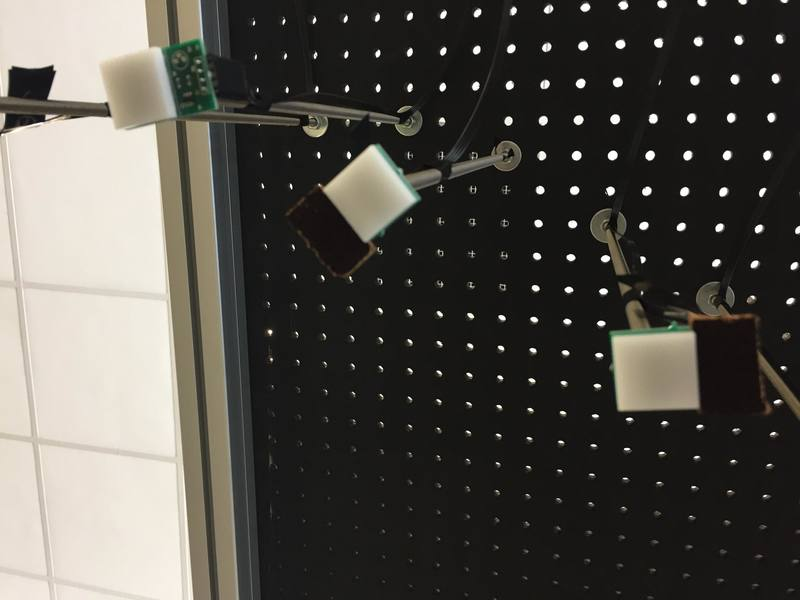target: (320, 147, 422, 240), (609, 327, 702, 415), (97, 55, 177, 127)
